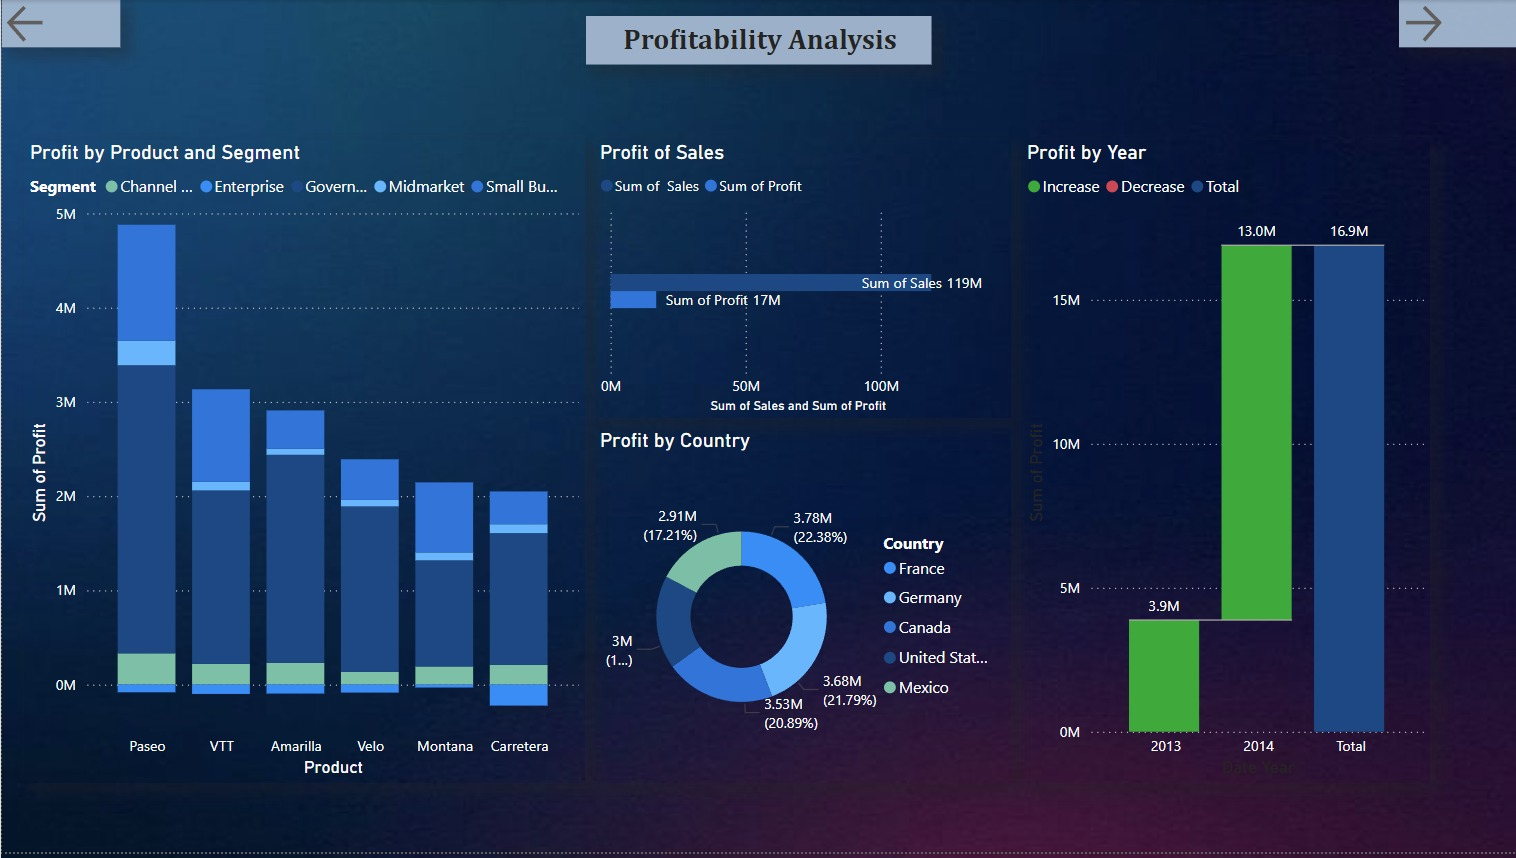

The dashboard page shown, as its layout file describes it:
{"tool":"powerbi","page":{"name":"PROFITABILITY AANALYSIS","canvas":[1280,720],"ordinal":2},"visuals":[{"type":"textbox","box":[493.5,13.5,292.4,40.6],"z":0},{"type":"columnChart","title":"Profit by Product and Segment","fields":{"Category":["financials.Product"],"Y":["Sum(financials.Profit)"],"Series":["financials.Segment"]},"box":[18.6,118.3,474.1,543.4],"z":1000},{"type":"clusteredBarChart","title":"Profit of  Sales","fields":{"Y":["Sum(financials. Sales)","Sum(financials.Profit)"]},"box":[500.3,118.3,352.4,234.9],"z":2000},{"type":"actionButton","box":[0,0,99.6,40.2],"z":3000},{"type":"actionButton","box":[1180.4,0,99.6,40.2],"z":4000},{"type":"donutChart","title":"Profit by Country","fields":{"Y":["Sum(financials.Profit)"],"Category":["financials.Country"]},"box":[500.3,361.7,352.4,300],"z":5000},{"type":"waterfallChart","title":"Profit by Year","fields":{"Y":["Sum(financials.Profit)"],"Category":["financials.Date.Variation.Date Hierarchy.Year","financials.Date.Variation.Date Hierarchy.Quarter","financials.Date.Variation.Date Hierarchy.Month","financials.Date.Variation.Date Hierarchy.Day"]},"box":[861.1,118.3,346.5,543.4],"z":6000}]}

Visuals, with their boxes in screenshot pixels (x1, y1, x2, y2), scaled from the page's 1280x720 canvas onto the 1516x858 screenshot:
textbox: [584, 16, 931, 64]
"Profit by Product and Segment" columnChart: [22, 141, 584, 789]
"Profit of  Sales" clusteredBarChart: [593, 141, 1010, 421]
actionButton: [0, 0, 118, 48]
actionButton: [1398, 0, 1515, 48]
"Profit by Country" donutChart: [593, 431, 1010, 789]
"Profit by Year" waterfallChart: [1020, 141, 1430, 789]
